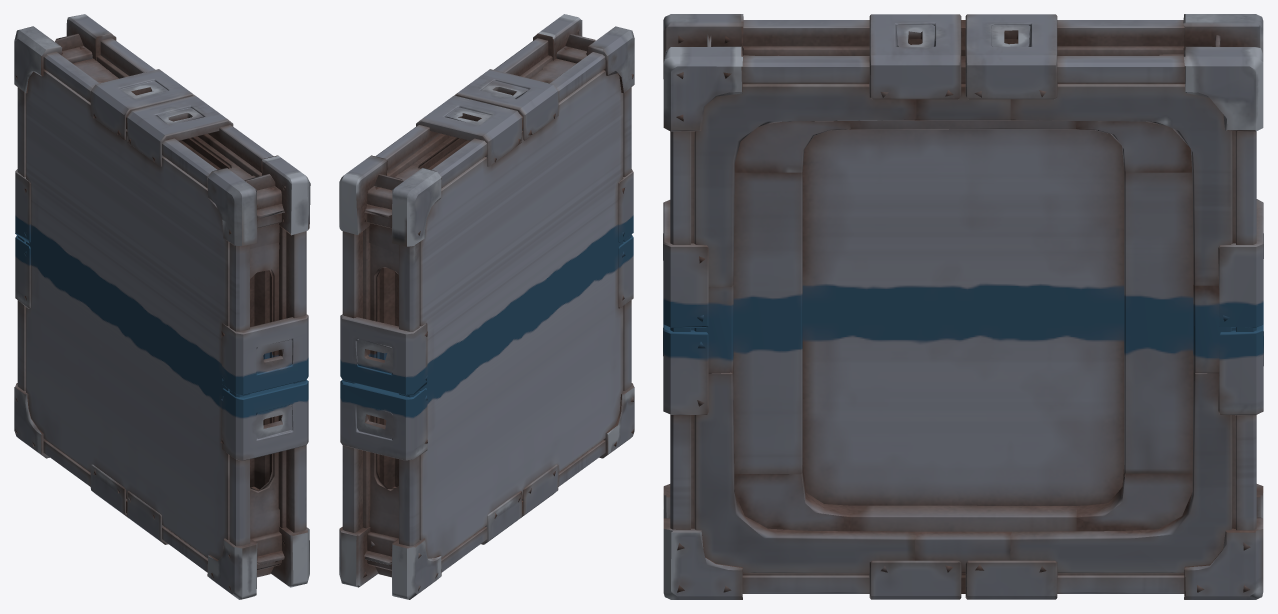
The model's file is StructureBP_Wall_Half_Metal_C.glb.
3 renders of one model, left to right at view 1: azimuth 30°, elevation 25°; view 2: azimuth 150°, elevation 25°; view 3: azimuth 270°, elevation 25°, orthographic. The views are drawn at different scales.
Visible parts, largest first — view 1: SM_Metal_WallQuarter; view 2: SM_Metal_WallQuarter; view 3: SM_Metal_WallQuarter.
Boxes of the visible parts, x1=… form: SM_Metal_WallQuarter: x1=14, y1=14, x2=310, y2=599; SM_Metal_WallQuarter: x1=339, y1=14, x2=634, y2=599; SM_Metal_WallQuarter: x1=663, y1=14, x2=1263, y2=599.
Bounding box in the file's own units: 0.3104 × 1.54 × 1.54.
1 material, 1 textured.
